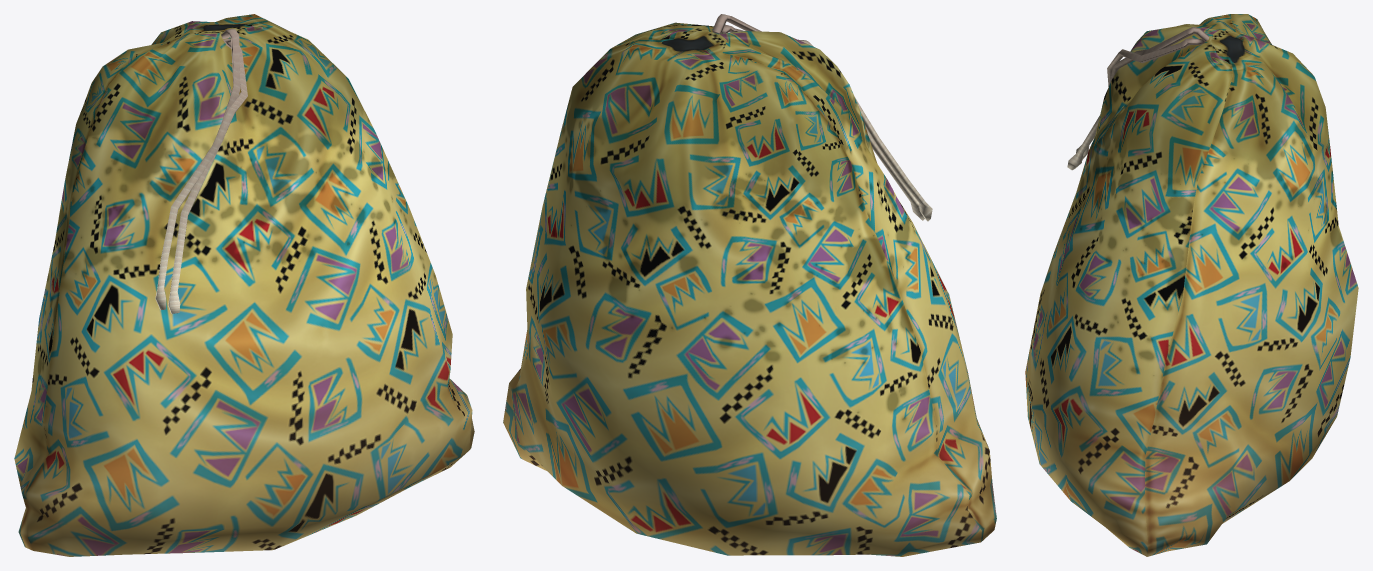
The model's file is luggage_laundry.fbx.
The picture shows the model from 3 angles, left to right: view 1: azimuth 30°, elevation 25°; view 2: azimuth 150°, elevation 25°; view 3: azimuth 270°, elevation 25°; orthographic projection. The views are drawn at different scales.
Visible parts, largest first — view 1: luggage_laundry; view 2: luggage_laundry; view 3: luggage_laundry.
Part boxes in pixels (left/top/right/bottom): luggage_laundry: left=14, top=14, right=474, bottom=556; luggage_laundry: left=503, top=14, right=996, bottom=556; luggage_laundry: left=1025, top=14, right=1358, bottom=556.
Size of the model in its own units: 2.59 by 2.59 by 1.76.
